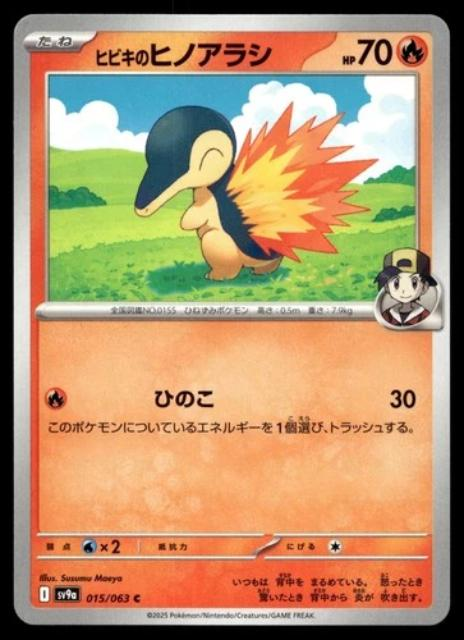Card: (7, 7, 456, 630)
Name: (87, 37, 278, 72)
